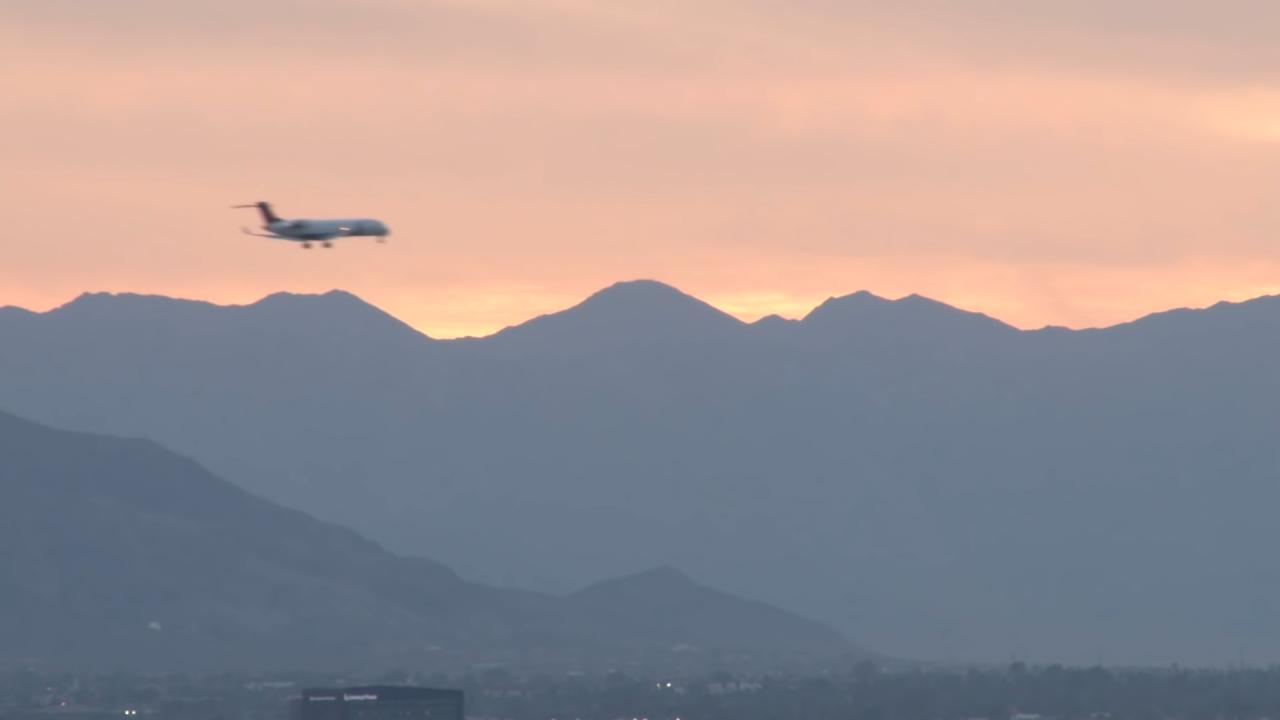Airplane: (221, 187, 404, 261)
